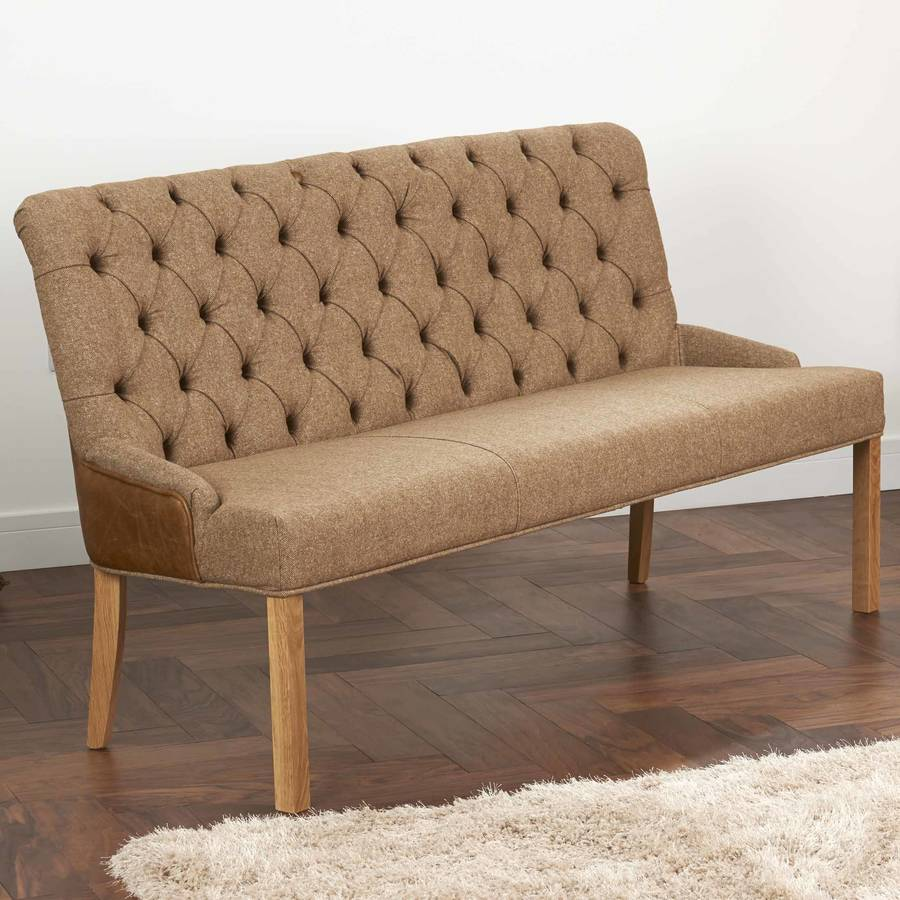chairs: (1, 113, 895, 814)
